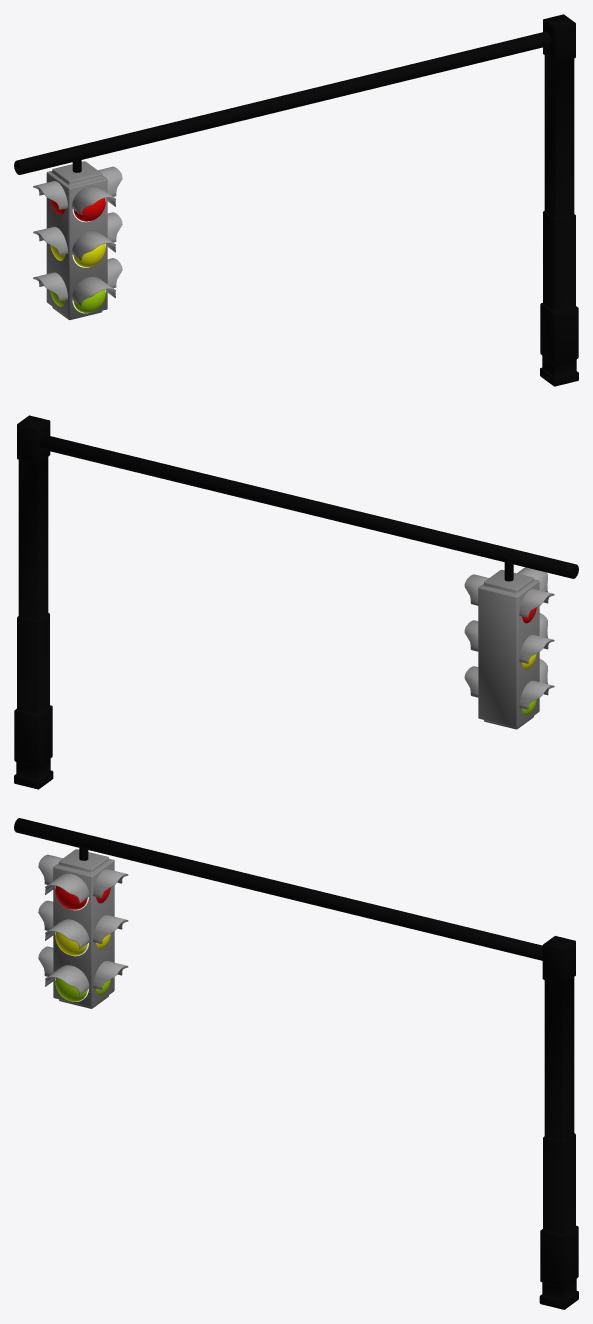
File: TrafficLight.fbx
The picture shows the model from 3 angles, top to bottom: view 1: azimuth 30°, elevation 25°; view 2: azimuth 150°, elevation 25°; view 3: azimuth 330°, elevation 25°; orthographic projection.
Visible parts, largest first — view 1: Cube.001, Cube, Sphere.005, Sphere.002, Sphere; view 2: Cube.001, Cube, Sphere.005, Sphere.002; view 3: Cube.001, Cube, Sphere.005, Sphere.002, Sphere.
Boxes of the visible parts, x1,y1,x2,y2 form: Cube.001: [14, 14, 578, 386]; Cube: [46, 161, 107, 319]; Sphere.005: [33, 166, 122, 301]; Sphere.002: [71, 185, 115, 306]; Sphere: [73, 198, 105, 313]; Cube.001: [14, 415, 578, 789]; Cube: [478, 569, 539, 729]; Sphere.005: [464, 574, 554, 709]; Sphere.002: [517, 567, 547, 683]; Cube.001: [14, 818, 578, 1309]; Cube: [53, 849, 114, 1008]; Sphere.005: [38, 854, 128, 989]; Sphere.002: [45, 873, 89, 994]; Sphere: [55, 886, 87, 1001].
Bounding box in the file's own units: 4409 × 2723 × 539.
